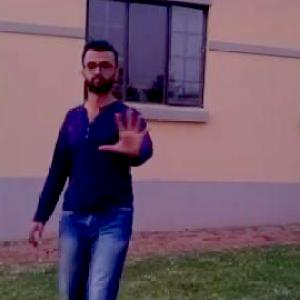follow_hand: (94, 101, 160, 158)
